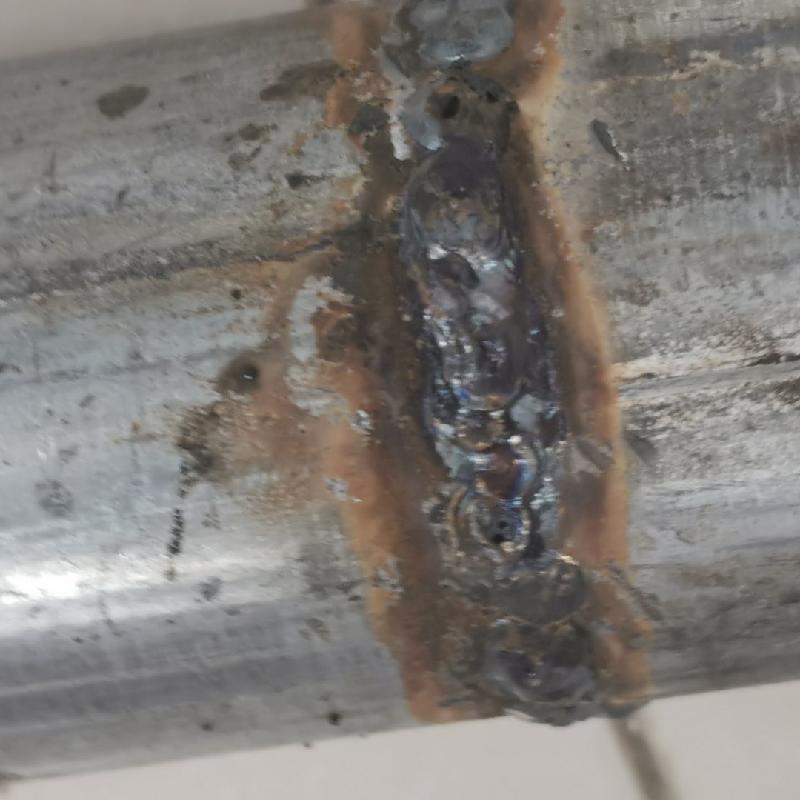Surface_pores: (423, 70, 512, 127), (468, 501, 527, 553)
crater: (413, 310, 570, 565)
wrong_size: (366, 1, 563, 307), (453, 563, 613, 730)
